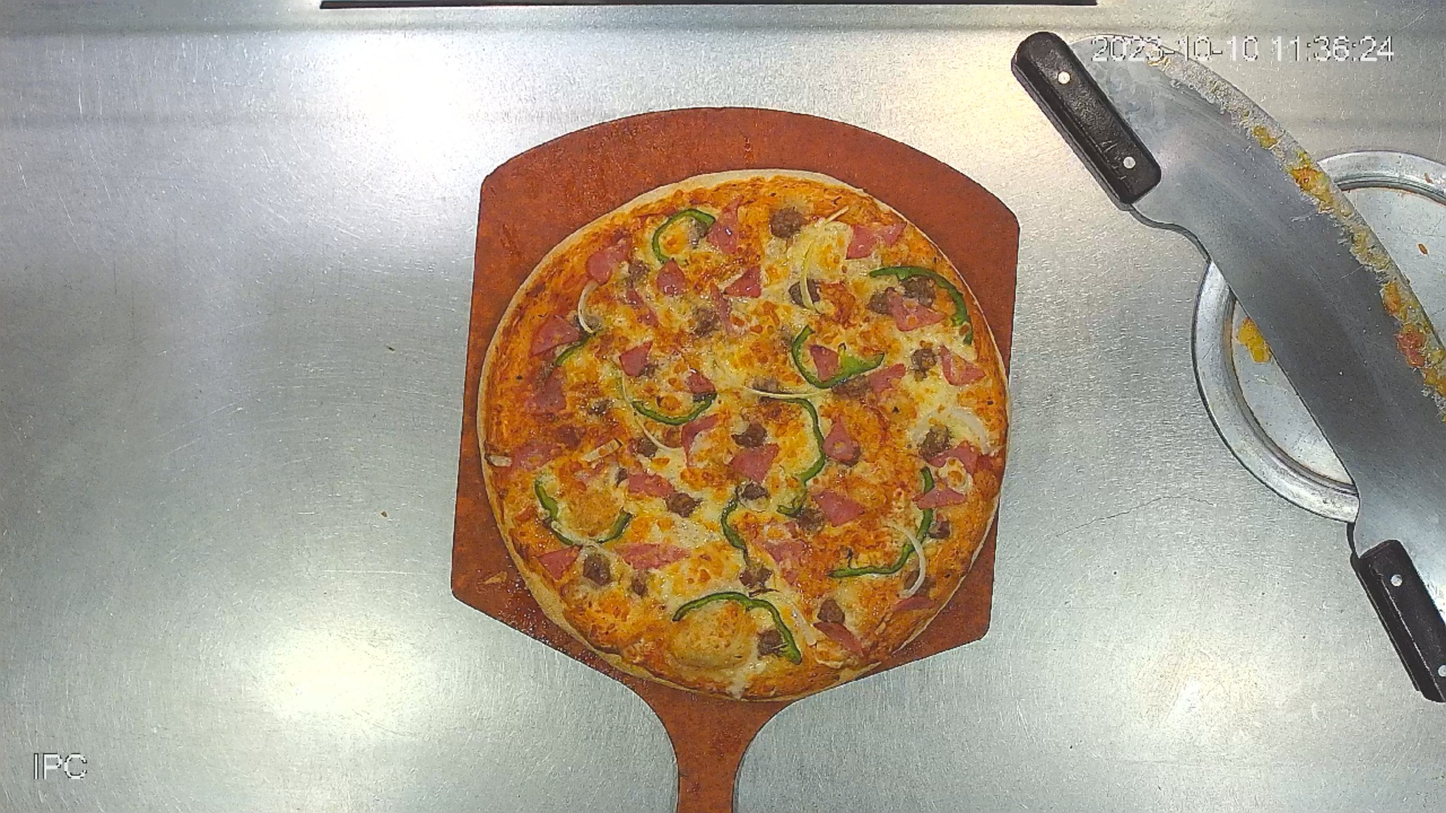manager_choice: (470, 154, 1021, 708)
